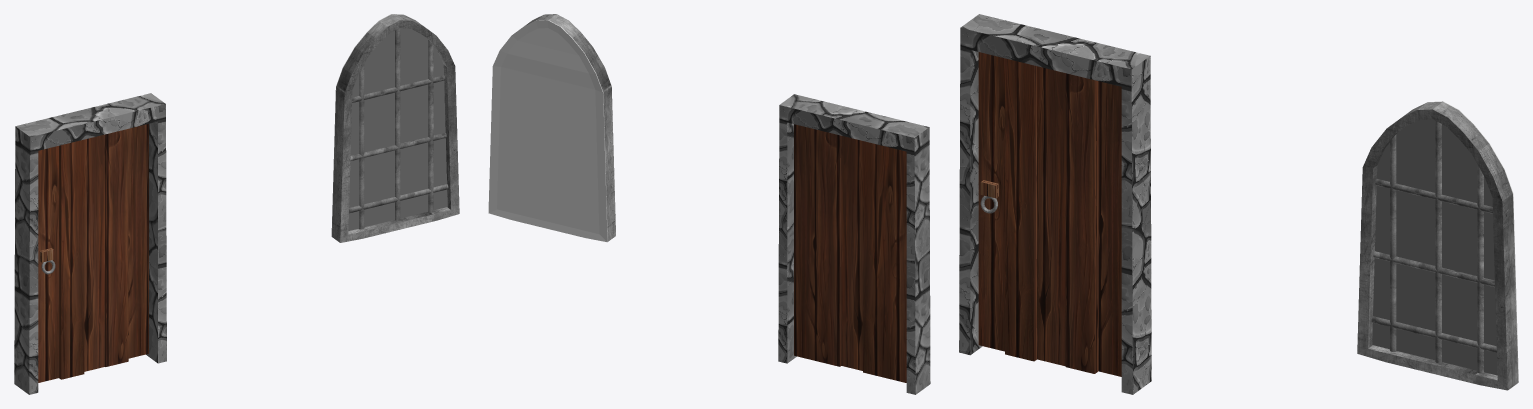
The model's file is окно и дверь (2).fbx.
The picture shows the model from 3 angles, left to right: view 1: azimuth 30°, elevation 25°; view 2: azimuth 150°, elevation 25°; view 3: azimuth 330°, elevation 25°; orthographic projection. The views are drawn at different scales.
Visible parts, largest first — view 1: дверь, кладка, фон, корпус, балка.004, балка.003, балк, балка, балка.001, балка.002; view 2: дверь, бэкграунд для окна, кладка, корпус; view 3: дверь, кладка, фон, корпус, балка.004, балк, балка.003, балка, балка.001, балка.002.
Part boxes in pixels (box(x1,y1,x2,y2)): дверь: box(38, 124, 148, 382); кладка: box(14, 93, 166, 394); фон: box(348, 28, 447, 230); корпус: box(332, 14, 459, 242); балка.004: box(395, 28, 400, 220); балка.003: box(428, 40, 433, 212); балк: box(359, 64, 364, 229); балка: box(349, 184, 448, 213); балка.001: box(350, 132, 446, 161); балка.002: box(352, 75, 445, 102); дверь: box(794, 124, 906, 382); бэкграунд для окна: box(488, 20, 607, 242); кладка: box(778, 94, 930, 394); корпус: box(525, 14, 615, 241); дверь: box(978, 52, 1121, 376); кладка: box(959, 14, 1151, 394); фон: box(1372, 119, 1497, 375); корпус: box(1357, 101, 1518, 390); балка.004: box(1435, 120, 1442, 363); балк: box(1390, 134, 1396, 351); балка.003: box(1477, 164, 1484, 373); балка: box(1371, 316, 1496, 352); балка.001: box(1373, 251, 1494, 287); балка.002: box(1375, 179, 1510, 217).
Size of the model in its own units: 1172 by 730 by 69.96.
